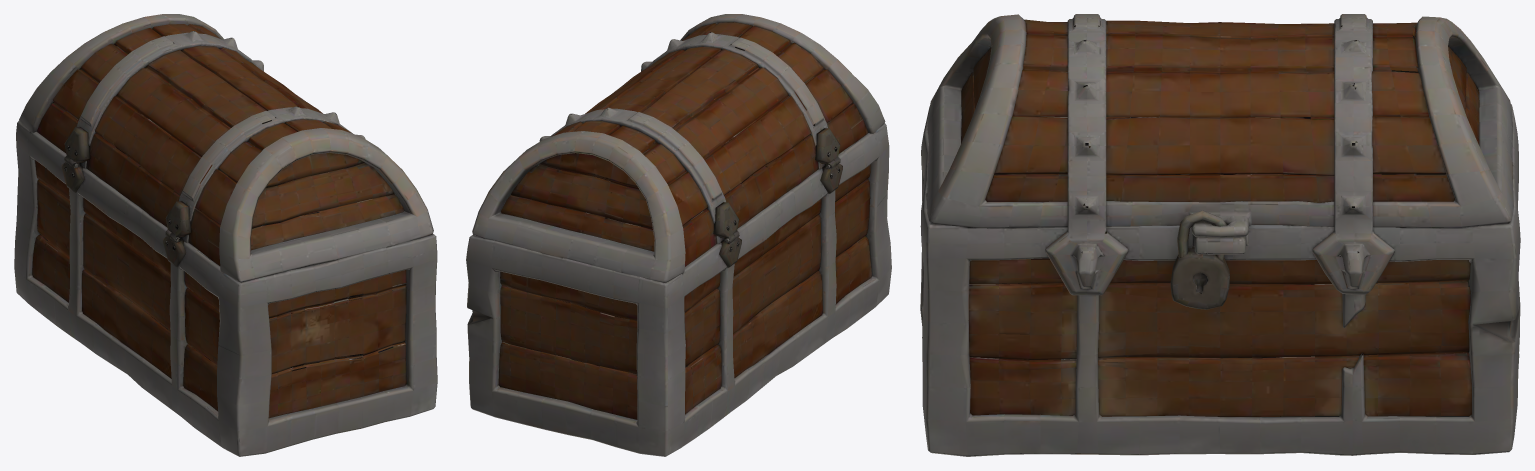
The model's file is treasure_chest.glb.
3 views of the same model, side by side, from view 1: azimuth 30°, elevation 25°; view 2: azimuth 150°, elevation 25°; view 3: azimuth 270°, elevation 25° (orthographic). The views are drawn at different scales.
Visible parts, largest first — view 1: Wooden Treasure Chest; view 2: Wooden Treasure Chest; view 3: Wooden Treasure Chest.
Part boxes in pixels (x1,y1,x2,y2): Wooden Treasure Chest: [14, 14, 437, 456]; Wooden Treasure Chest: [466, 14, 891, 456]; Wooden Treasure Chest: [920, 14, 1520, 456].
Bounding box in the file's own units: 0.5377 × 0.6318 × 0.9269.
Materials: 1 (1 with a texture image).
